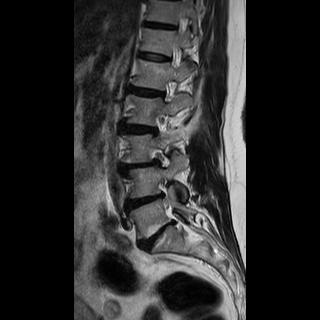RFS0: (153, 76, 179, 106)
